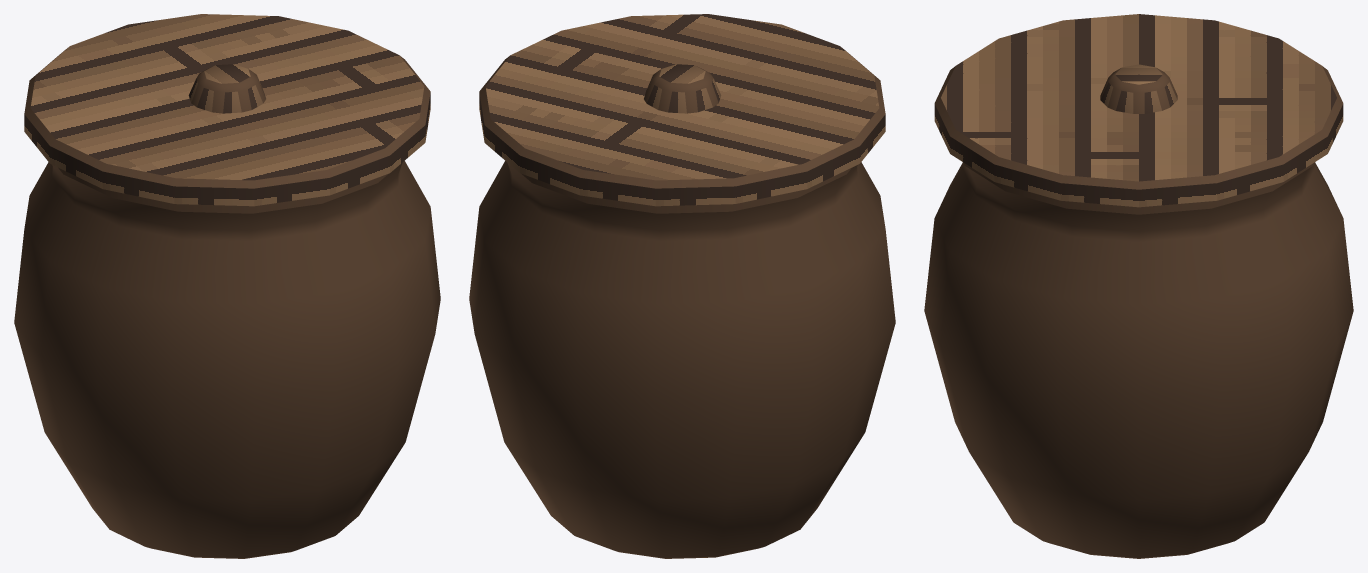
Rendered from cn_water_vat_0.glb.
3 renders of one model, left to right at view 1: azimuth 30°, elevation 25°; view 2: azimuth 150°, elevation 25°; view 3: azimuth 270°, elevation 25°, orthographic.
Parts seen in each view (by area): view 1: cn_water_vat_1; view 2: cn_water_vat_1; view 3: cn_water_vat_1.
Part boxes in pixels (x1=…): cn_water_vat_1: x1=14, y1=14, x2=440, y2=558; cn_water_vat_1: x1=469, y1=14, x2=895, y2=558; cn_water_vat_1: x1=924, y1=14, x2=1353, y2=558.
Size of the model in its own units: 0.84 by 0.93 by 0.84.
Materials: 3 (3 with a texture image).
